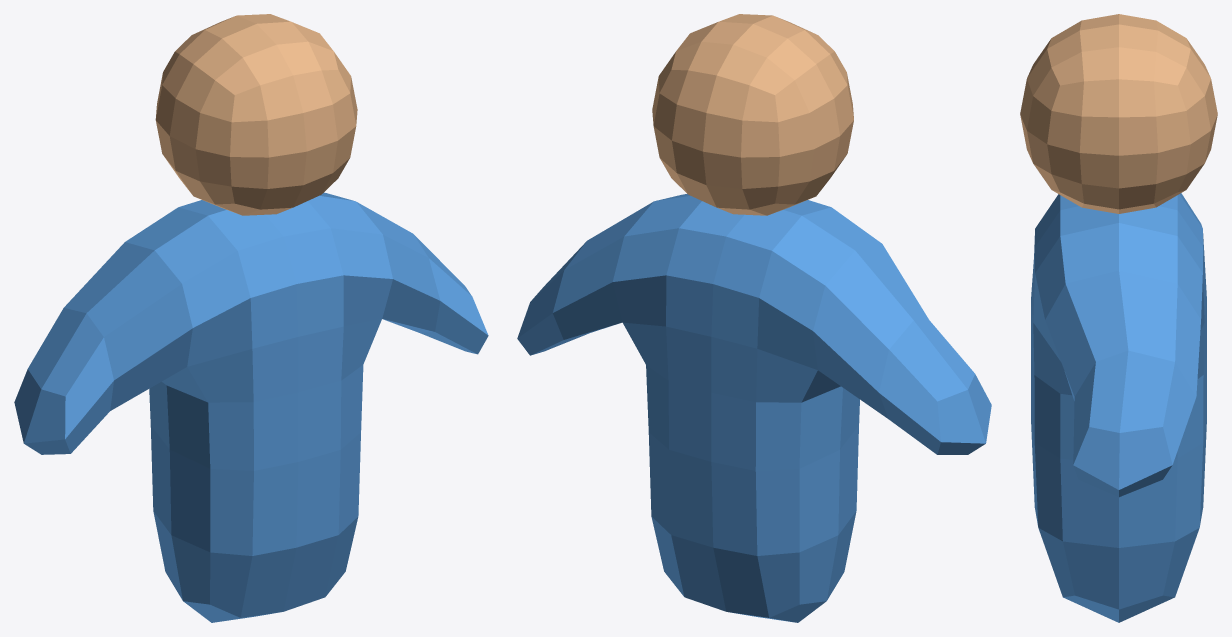
File: Human.fbx
The picture shows the model from 3 angles, left to right: view 1: azimuth 30°, elevation 25°; view 2: azimuth 150°, elevation 25°; view 3: azimuth 270°, elevation 25°; orthographic projection.
Visible parts, largest first — view 1: Cube, Cube.001; view 2: Cube, Cube.001; view 3: Cube, Cube.001.
Part boxes in pixels (x1,y1,x2,y2): Cube: (14, 192, 488, 622); Cube.001: (155, 14, 357, 215); Cube: (517, 194, 991, 622); Cube.001: (652, 14, 853, 215); Cube: (1031, 193, 1206, 622); Cube.001: (1020, 14, 1217, 213).
Bounding box in the file's own units: 442 × 546 × 168.
